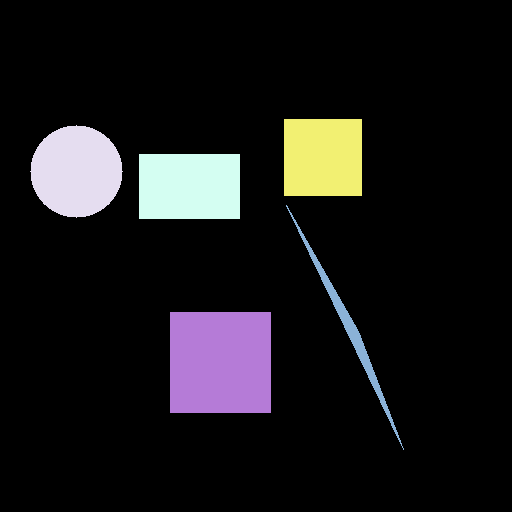circle: (30, 125, 122, 217)
rectangle: (139, 154, 239, 218)
square: (170, 312, 270, 412), (284, 119, 361, 195)
